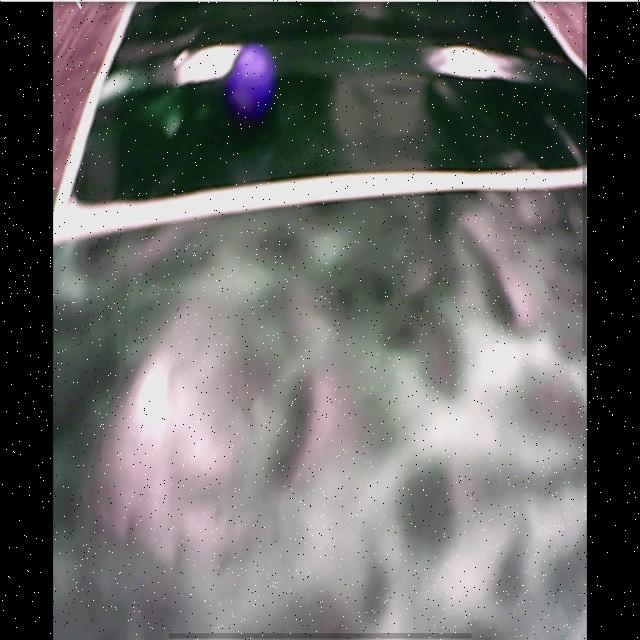ball: (229, 45, 277, 110)
